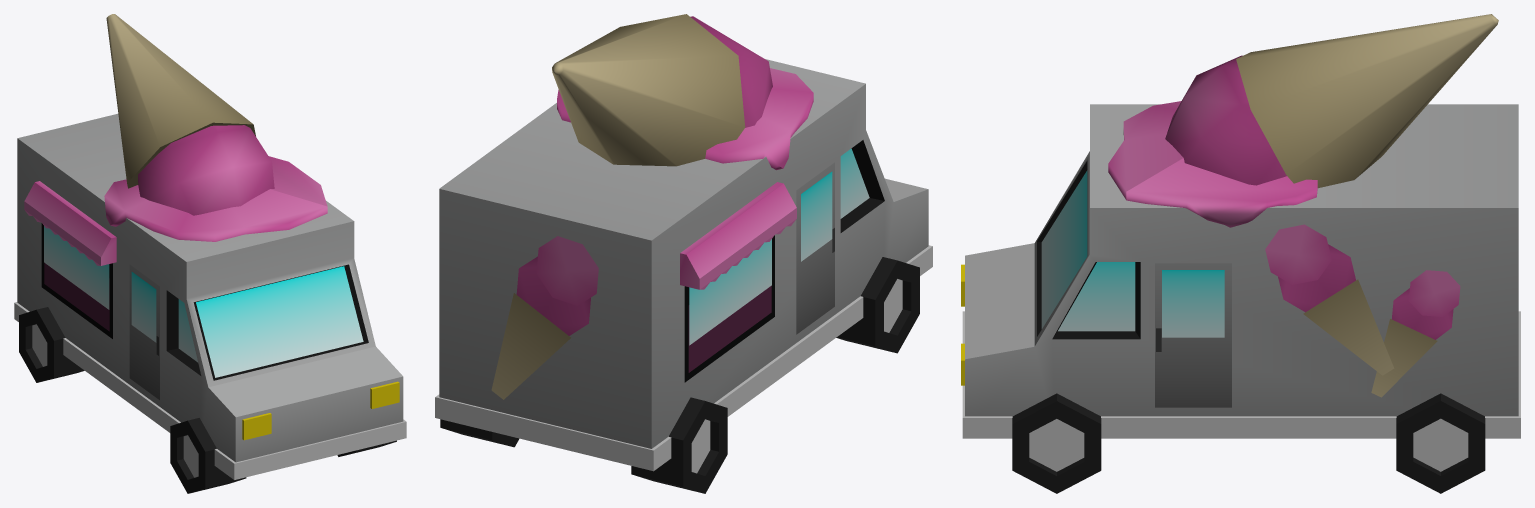
File: grenade_truckIce.glb
The picture shows the model from 3 angles, left to right: view 1: azimuth 30°, elevation 25°; view 2: azimuth 150°, elevation 25°; view 3: azimuth 270°, elevation 25°; orthographic projection. The views are drawn at different scales.
Visible parts, largest first — view 1: grenade_truckIce; view 2: grenade_truckIce; view 3: grenade_truckIce.
Boxes of the visible parts, x1=… form: grenade_truckIce: x1=14, y1=14, x2=406, y2=493; grenade_truckIce: x1=435, y1=14, x2=932, y2=493; grenade_truckIce: x1=961, y1=14, x2=1520, y2=493.
Bounding box in the file's own units: 0.0917 × 0.1487 × 0.1795.
